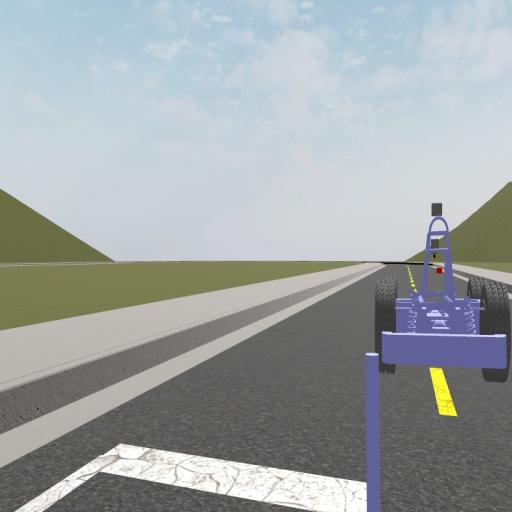ERP-42: (374, 203, 512, 384)
